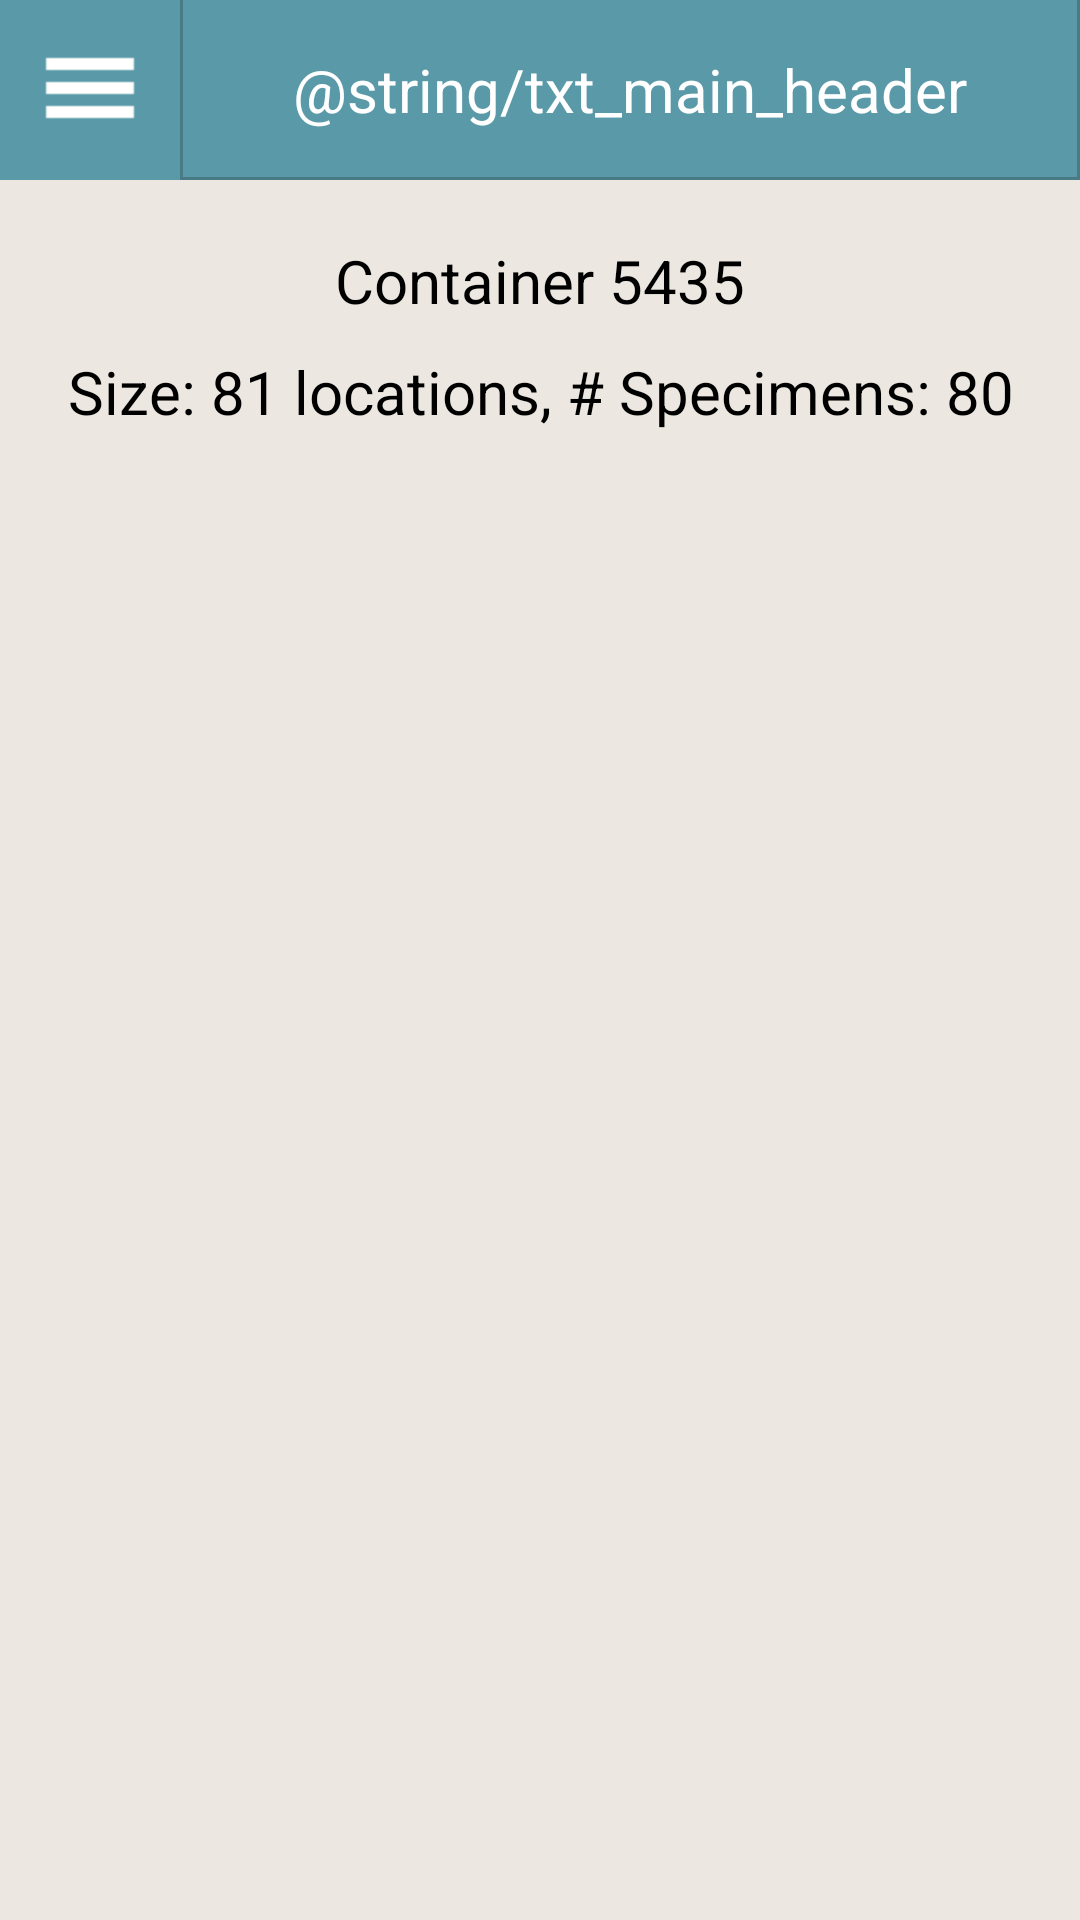

Icons on this 1080px×1920px Android screen, each with the point to tap as point (x, y):
list: point (90, 90)
